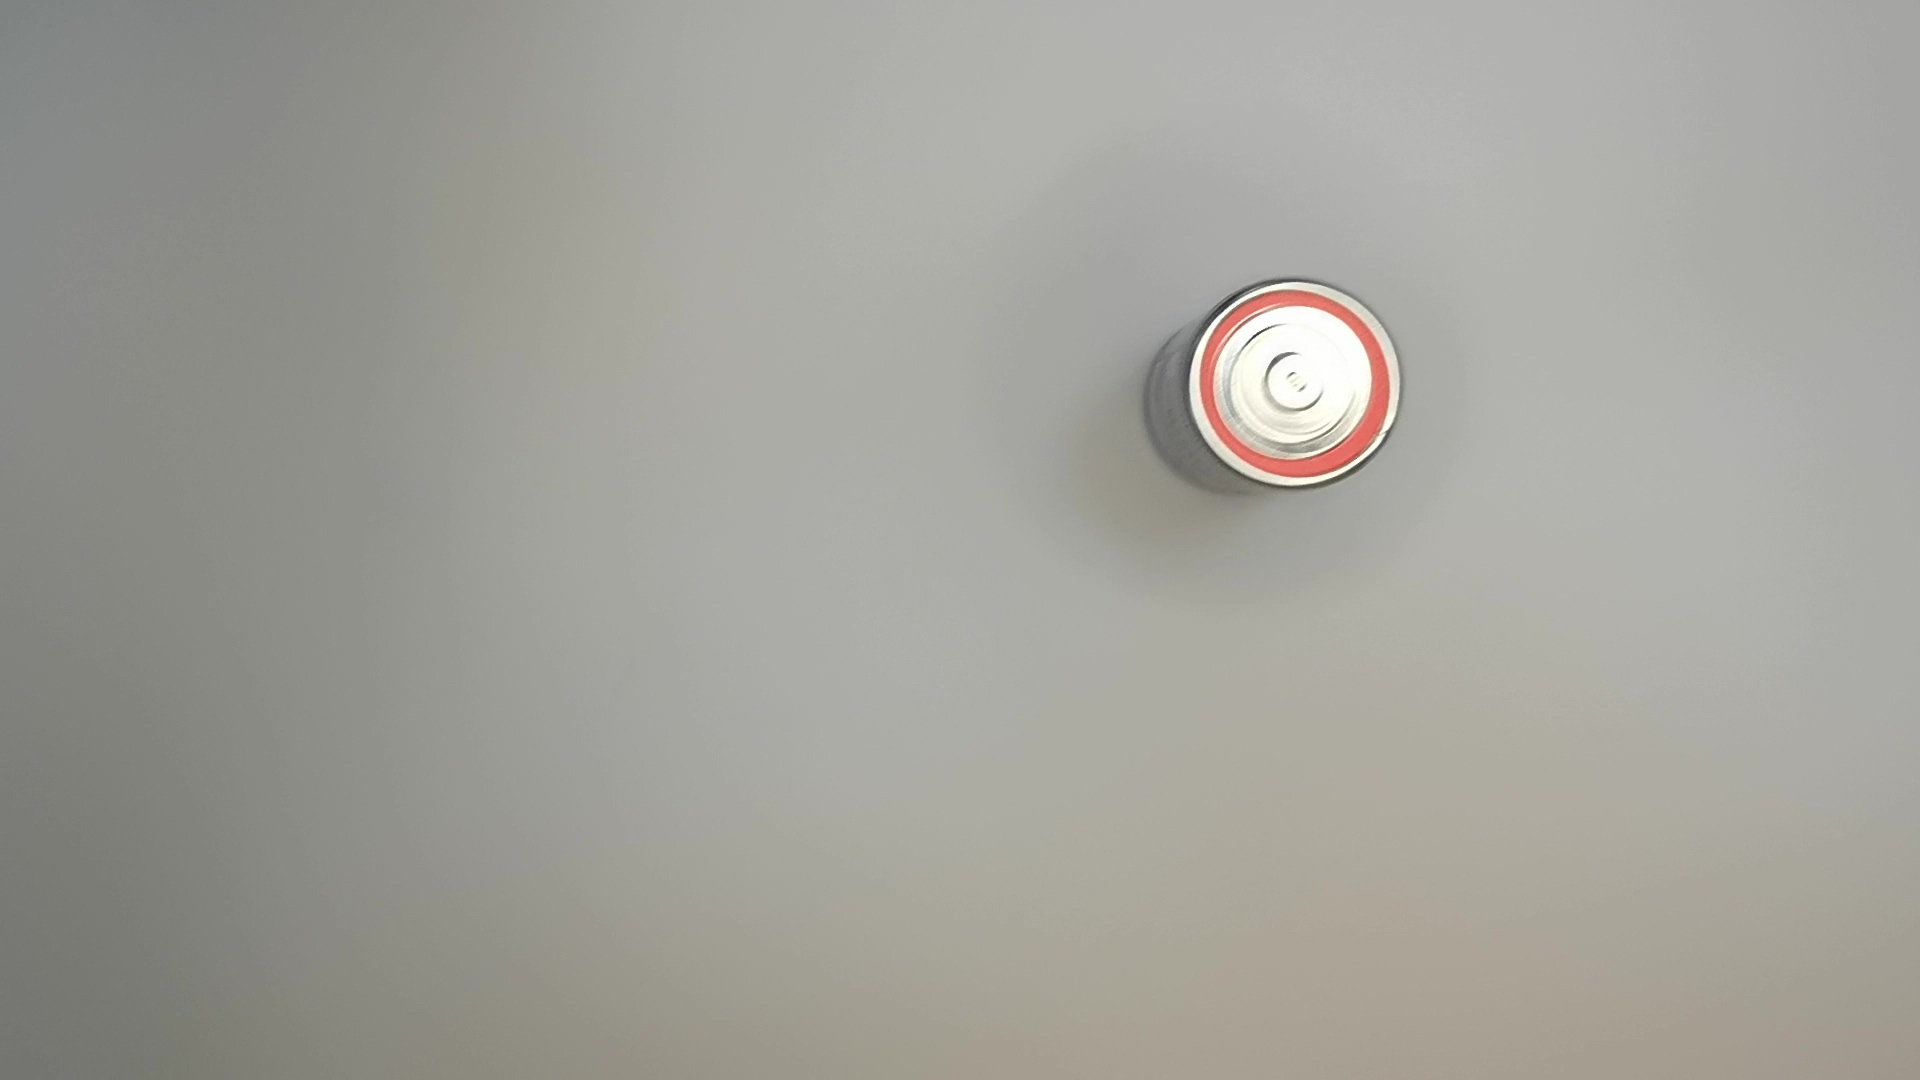battery: (1145, 274, 1407, 502)
